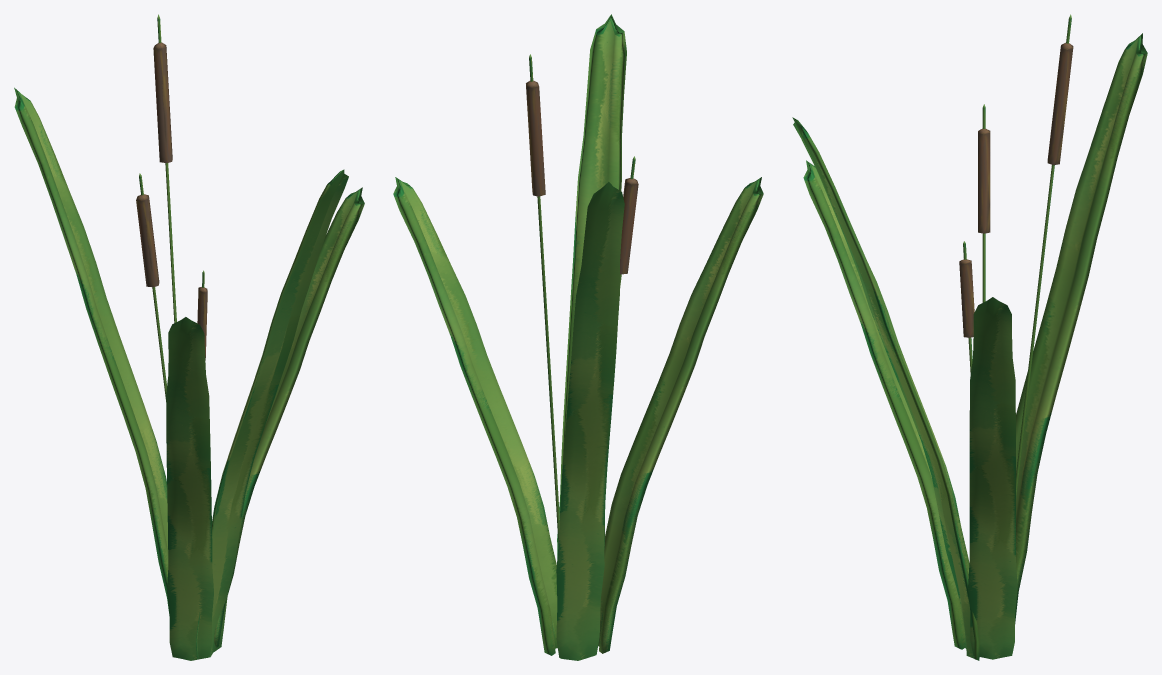
File: Cattail_04.fbx
3 views of the same model, side by side, from view 1: azimuth 30°, elevation 25°; view 2: azimuth 150°, elevation 25°; view 3: azimuth 270°, elevation 25° (orthographic). The views are drawn at different scales.
Visible parts, largest first — view 1: Cattail_08; view 2: Cattail_08; view 3: Cattail_08.
Boxes of the visible parts, bbox=[...] form: Cattail_08: bbox=[14, 14, 364, 660]; Cattail_08: bbox=[393, 14, 763, 660]; Cattail_08: bbox=[792, 14, 1147, 660].
Size of the model in its own units: 8.11 by 16.61 by 8.36.
